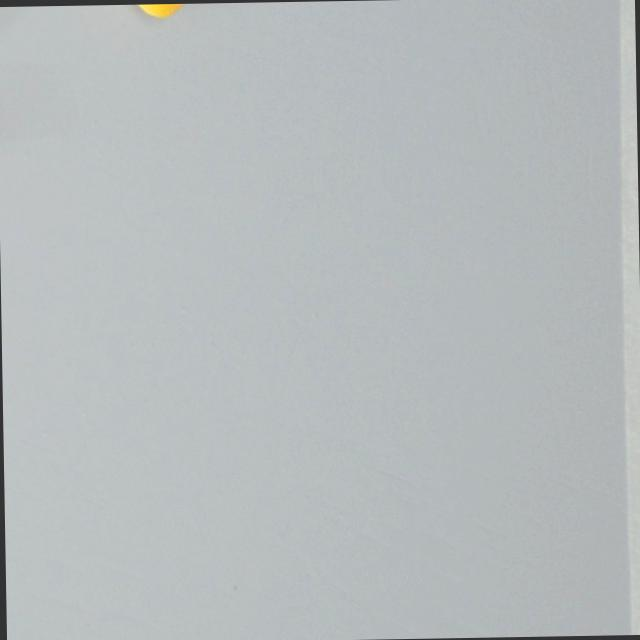no_canjicado: (109, 2, 209, 20)
